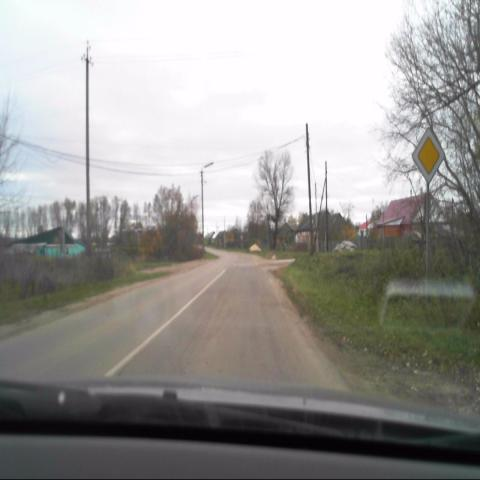2_1: (412, 126, 446, 186)
